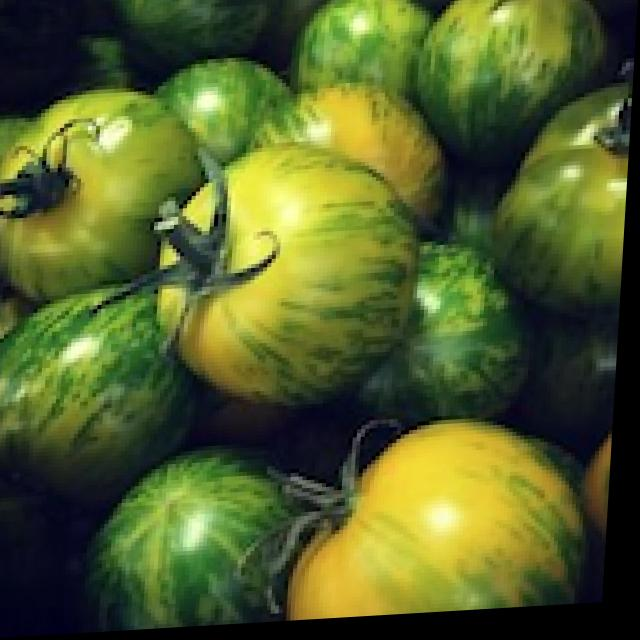yesil: (0, 0, 639, 633)
